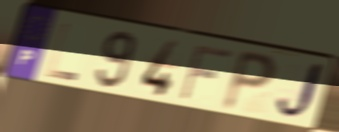4: (137, 38, 177, 99)
9: (94, 29, 137, 90)
F: (176, 43, 236, 104)
J: (273, 60, 328, 124)
L: (44, 21, 80, 83)
P: (219, 47, 279, 115)
